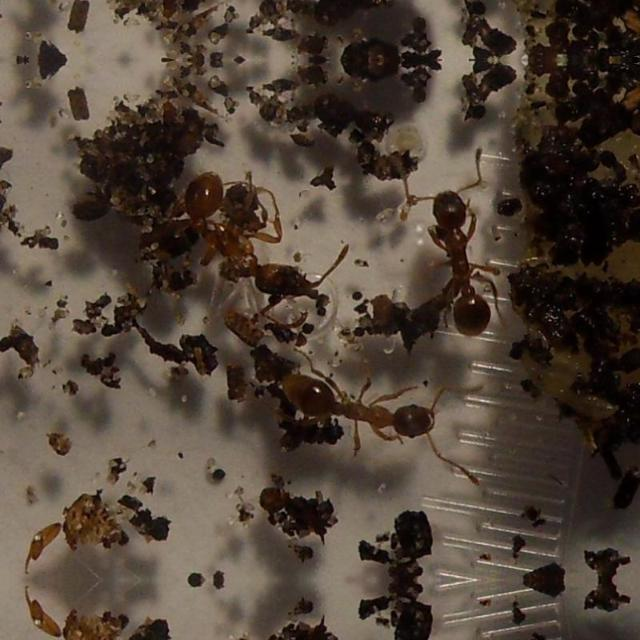Myrmica: (175, 151, 347, 323), (258, 342, 477, 470), (394, 141, 510, 341)
